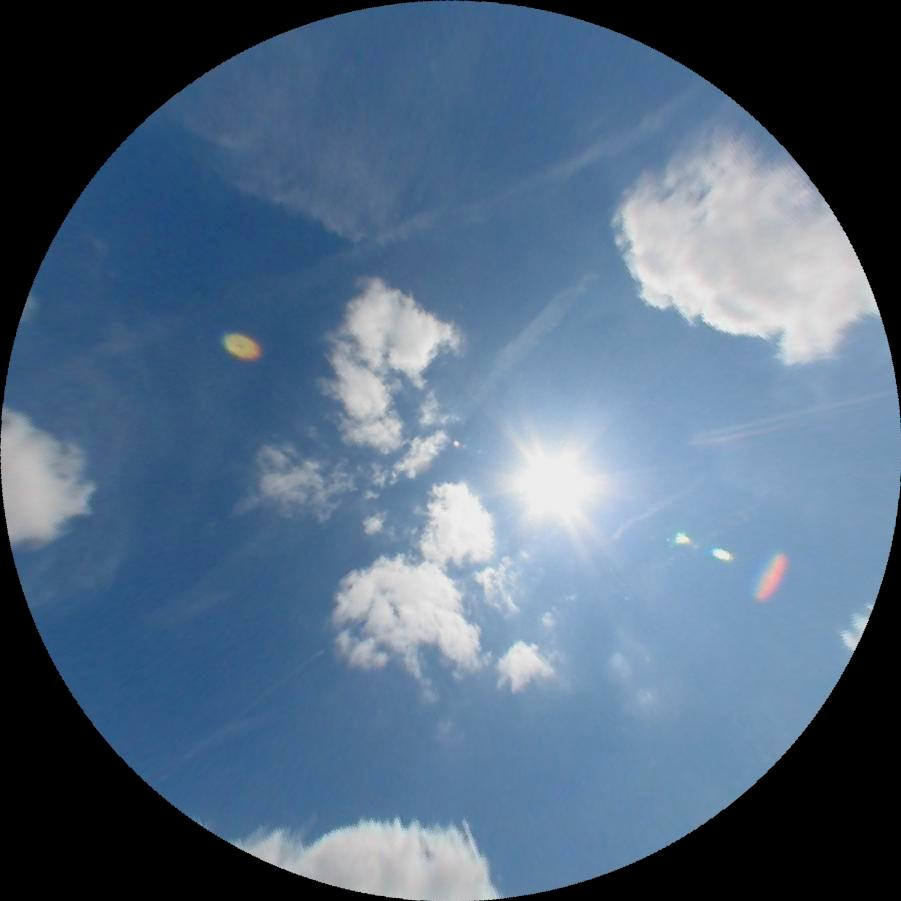contrail veryold: (92, 74, 721, 383), (448, 274, 588, 424)
parasite: (148, 602, 381, 786)
sun: (510, 442, 591, 521)
